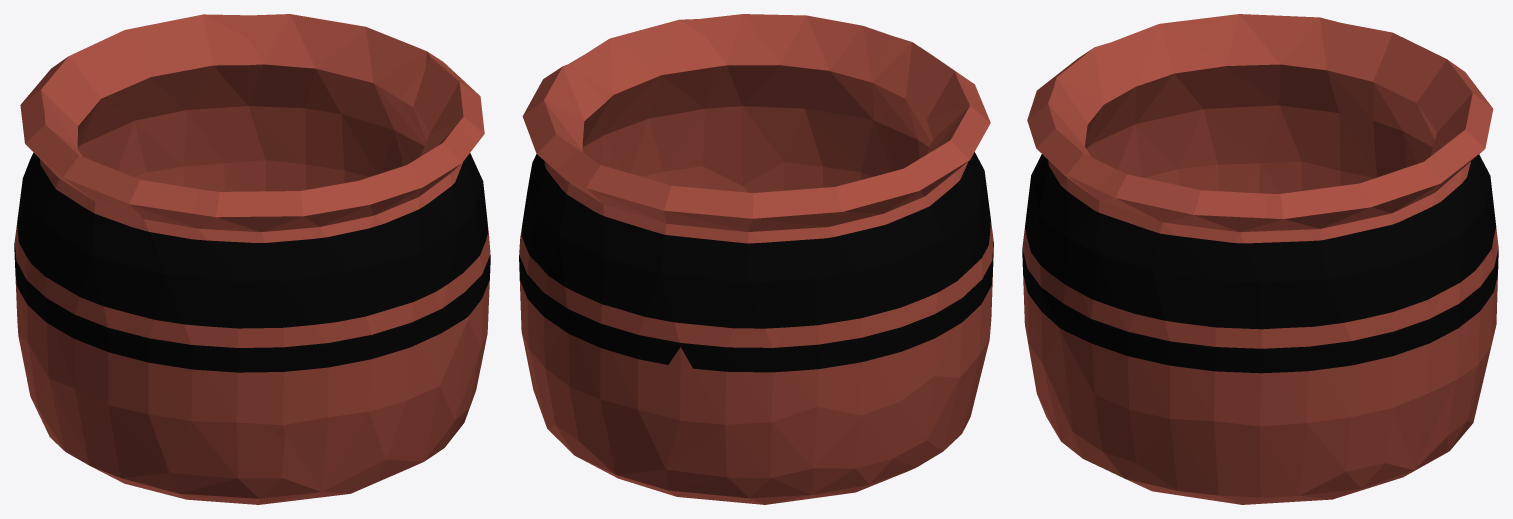
Rendered from Pottery 14_1b.fbx.
The picture shows the model from 3 angles, left to right: view 1: azimuth 30°, elevation 25°; view 2: azimuth 150°, elevation 25°; view 3: azimuth 270°, elevation 25°; orthographic projection.
Parts seen in each view (by area): view 1: Pottery 14_1b.005, Pottery 14_1b.008, Pottery 14_1b.007, Pottery 14_1b, Pottery 14_1b.003, Pottery 14_1b.002, Pottery 14_1b.001, Pottery 14_1b.004; view 2: Pottery 14_1b.004, Pottery 14_1b.003, Pottery 14_1b, Pottery 14_1b.007, Pottery 14_1b.005, Pottery 14_1b.001, Pottery 14_1b.002, Pottery 14_1b.008; view 3: Pottery 14_1b.002, Pottery 14_1b.001, Pottery 14_1b.005, Pottery 14_1b, Pottery 14_1b.007, Pottery 14_1b.003, Pottery 14_1b.004, Pottery 14_1b.008.
Boxes of the visible parts, bbox=[...] form: Pottery 14_1b.005: bbox=[16, 115, 199, 414]; Pottery 14_1b.008: bbox=[148, 187, 368, 446]; Pottery 14_1b.007: bbox=[320, 125, 482, 411]; Pottery 14_1b: bbox=[16, 295, 487, 504]; Pottery 14_1b.003: bbox=[69, 14, 278, 191]; Pottery 14_1b.002: bbox=[247, 14, 450, 191]; Pottery 14_1b.001: bbox=[401, 57, 490, 348]; Pottery 14_1b.004: bbox=[14, 56, 100, 316]; Pottery 14_1b.004: bbox=[681, 174, 901, 424]; Pottery 14_1b.003: bbox=[537, 149, 753, 415]; Pottery 14_1b: bbox=[527, 186, 989, 504]; Pottery 14_1b.007: bbox=[699, 14, 893, 192]; Pottery 14_1b.005: bbox=[882, 80, 993, 409]; Pottery 14_1b.001: bbox=[569, 19, 742, 191]; Pottery 14_1b.002: bbox=[519, 63, 605, 368]; Pottery 14_1b.008: bbox=[872, 36, 978, 170]; Pottery 14_1b.002: bbox=[1237, 148, 1462, 460]; Pottery 14_1b.001: bbox=[1061, 168, 1267, 421]; Pottery 14_1b.005: bbox=[1111, 14, 1346, 193]; Pottery 14_1b: bbox=[1025, 329, 1487, 504]; Pottery 14_1b.007: bbox=[1022, 88, 1113, 363]; Pottery 14_1b.003: bbox=[1416, 59, 1498, 394]; Pottery 14_1b.004: bbox=[1327, 23, 1446, 184]; Pottery 14_1b.008: bbox=[1033, 42, 1135, 167].
Bounding box in the file's own units: 51.71 × 39.4 × 51.68.
